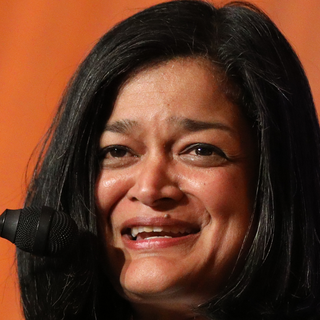eye: (179, 139, 227, 164), (101, 140, 141, 165)
